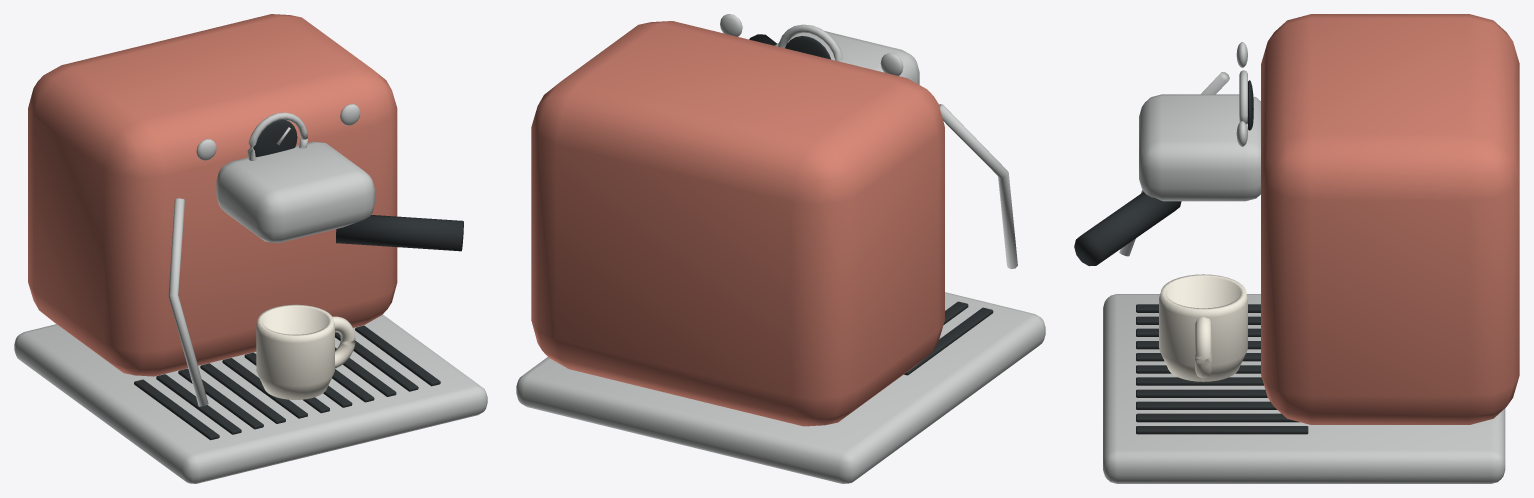
File: espresso_machine.glb
The picture shows the model from 3 angles, left to right: view 1: azimuth 30°, elevation 25°; view 2: azimuth 150°, elevation 25°; view 3: azimuth 270°, elevation 25°; orthographic projection. The views are drawn at different scales.
Visible parts, largest first — view 1: espresso_machine__body, espresso_machine__accent, espresso_machine__technical, espresso_machine__ceramic; view 2: espresso_machine__body, espresso_machine__accent, espresso_machine__technical; view 3: espresso_machine__body, espresso_machine__accent, espresso_machine__technical, espresso_machine__ceramic.
Boxes of the visible parts, left/top/right/bottom form: espresso_machine__body: left=28, top=14, right=397, bottom=376; espresso_machine__accent: left=14, top=104, right=487, bottom=483; espresso_machine__technical: left=134, top=119, right=463, bottom=440; espresso_machine__ceramic: left=256, top=304, right=355, bottom=399; espresso_machine__body: left=531, top=21, right=944, bottom=426; espresso_machine__accent: left=516, top=14, right=1045, bottom=483; espresso_machine__technical: left=749, top=34, right=993, bottom=375; espresso_machine__body: left=1261, top=14, right=1519, bottom=424; espresso_machine__accent: left=1103, top=42, right=1505, bottom=483; espresso_machine__technical: left=1074, top=80, right=1308, bottom=434; espresso_machine__ceramic: left=1159, top=274, right=1247, bottom=381.
Size of the model in its own units: 0.275 by 0.2545 by 0.31.
